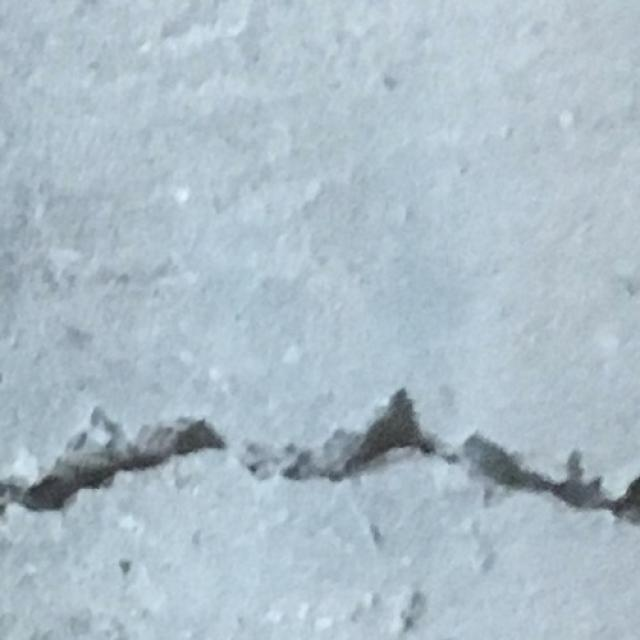horizontal crack: (10, 346, 640, 563)
